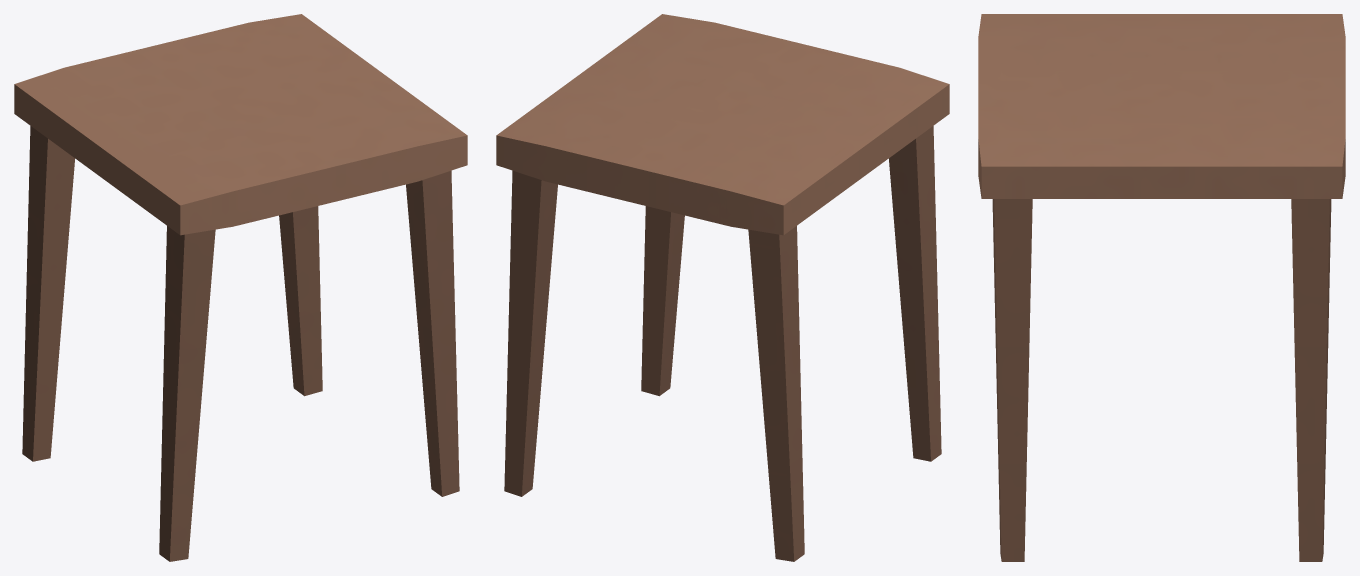
The model's file is Chair_01_02.fbx.
3 views of the same model, side by side, from view 1: azimuth 30°, elevation 25°; view 2: azimuth 150°, elevation 25°; view 3: azimuth 270°, elevation 25° (orthographic). The views are drawn at different scales.
Visible parts, largest first — view 1: Chair_01_02; view 2: Chair_01_02; view 3: Chair_01_02.
Boxes of the visible parts, x1,y1,x2,y2 form: Chair_01_02: (14, 14, 467, 561); Chair_01_02: (496, 14, 949, 561); Chair_01_02: (978, 14, 1345, 561).
Size of the model in its own units: 0.4836 by 0.5845 by 0.4882.
